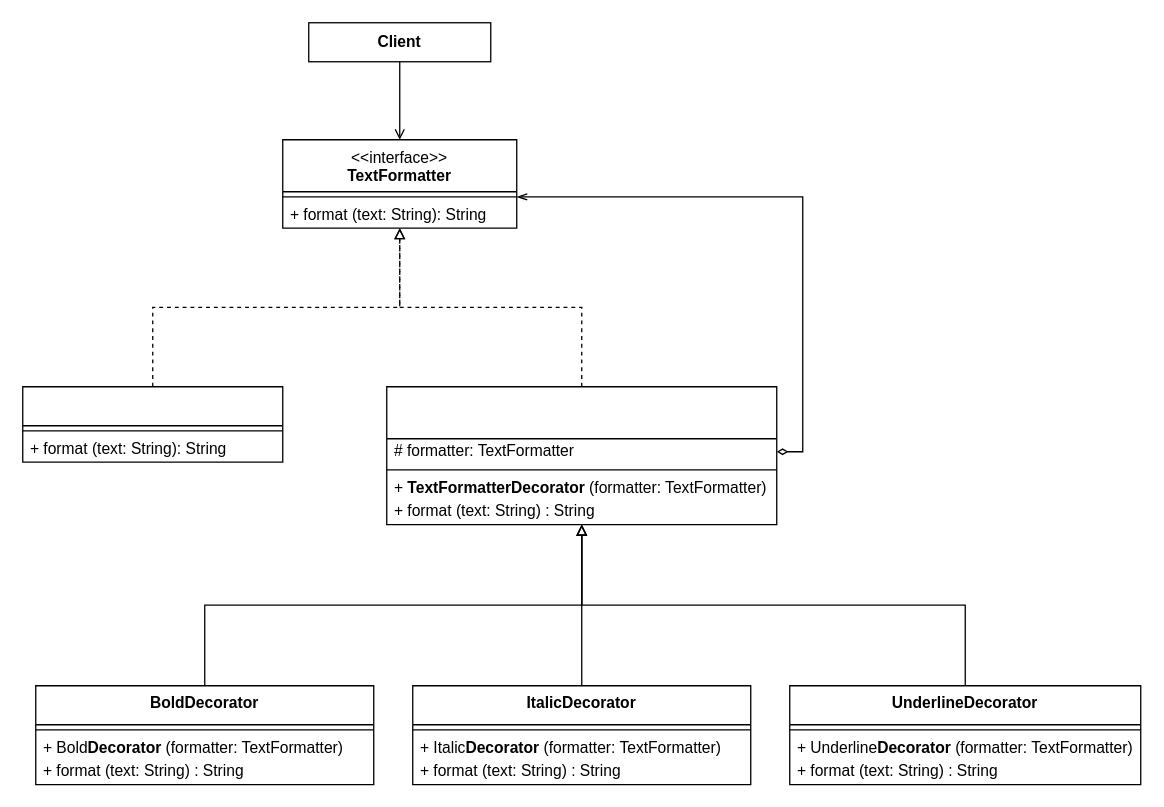
The diagram is 1164 pixels wide and 807 high, and some of its shapes have lost their labels. The box of each missing label's shape, as (x1, y1, x2, y2) in pixels:
PlainTextFormatter: (21, 385, 283, 462)
TextFormatterDecorator {abtract}: (385, 385, 777, 525)
